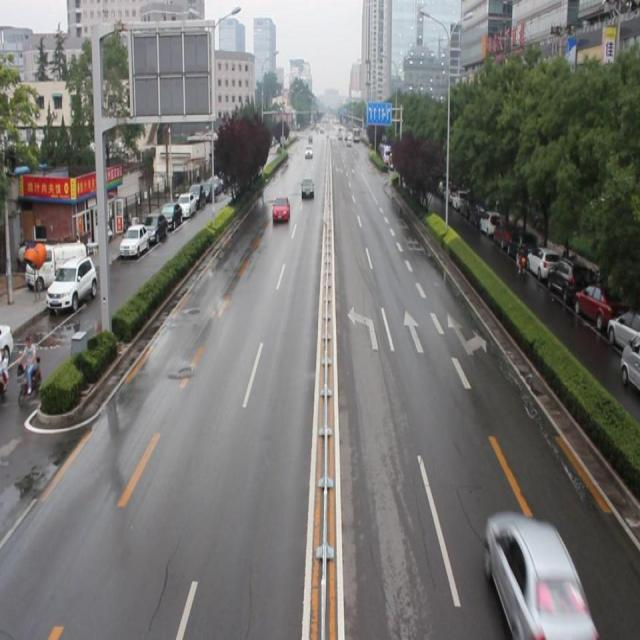car: (480, 507, 594, 640), (272, 194, 290, 223), (300, 177, 314, 199)
